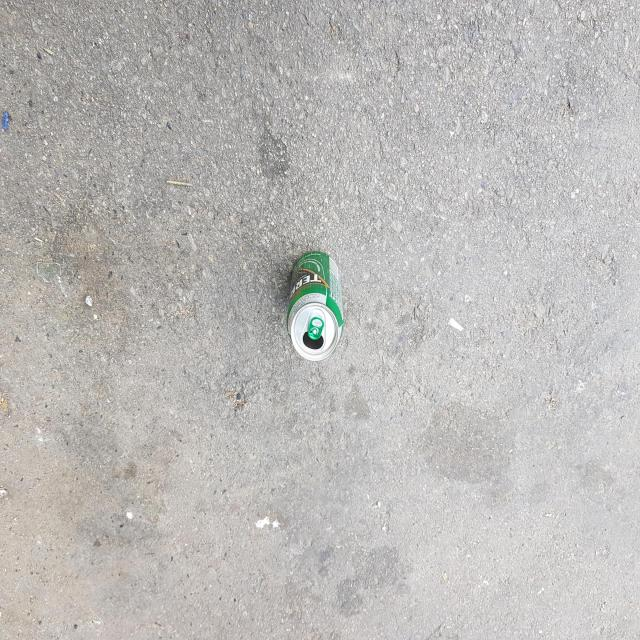can: (287, 251, 344, 361)
